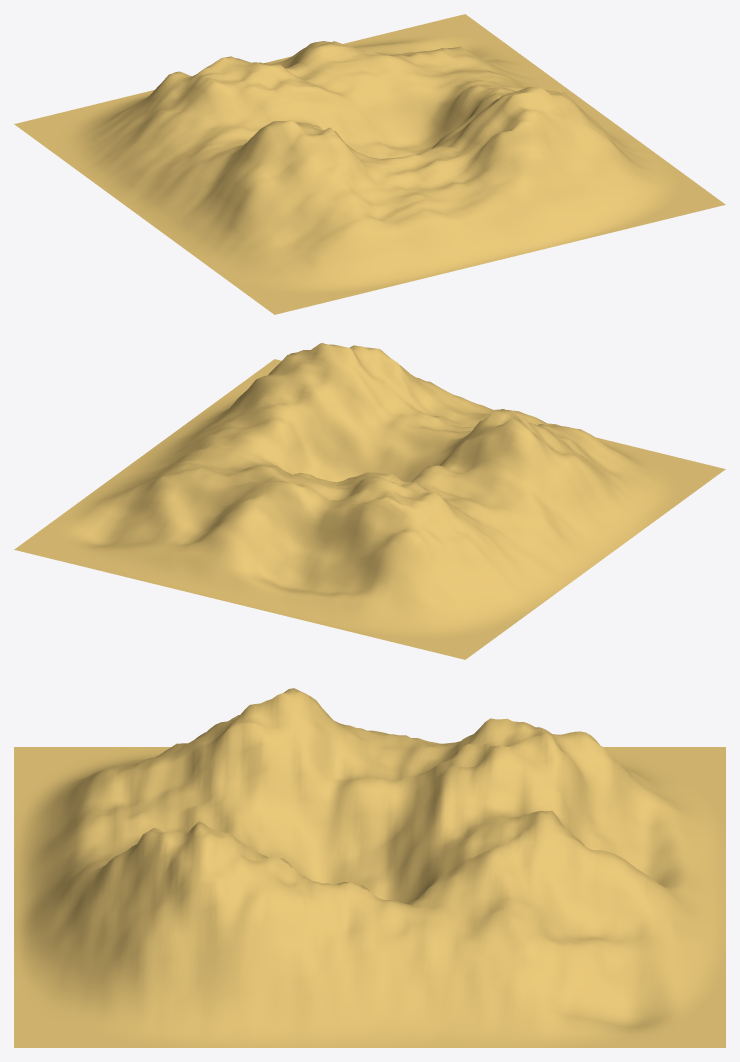
3 views of the same model, one above another, from view 1: azimuth 30°, elevation 25°; view 2: azimuth 150°, elevation 25°; view 3: azimuth 270°, elevation 25° (orthographic). The views are drawn at different scales.
Visible parts, largest first — view 1: Landscape; view 2: Landscape; view 3: Landscape.
Part boxes in pixels (x1,y1,x2,y2): Landscape: (14, 14, 725, 314); Landscape: (14, 343, 725, 659); Landscape: (14, 688, 725, 1047).
Size of the model in its own units: 200 by 43.02 by 200.
